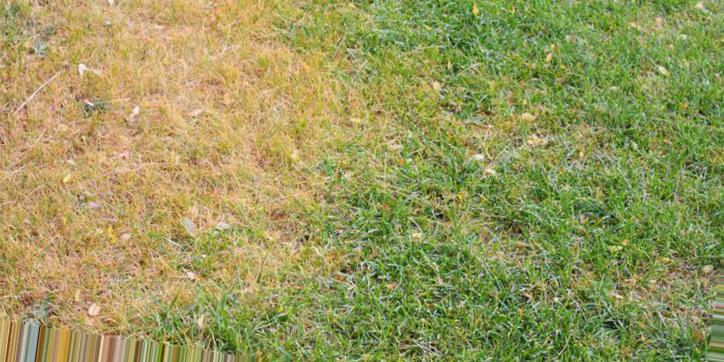patch: (29, 16, 316, 264)
